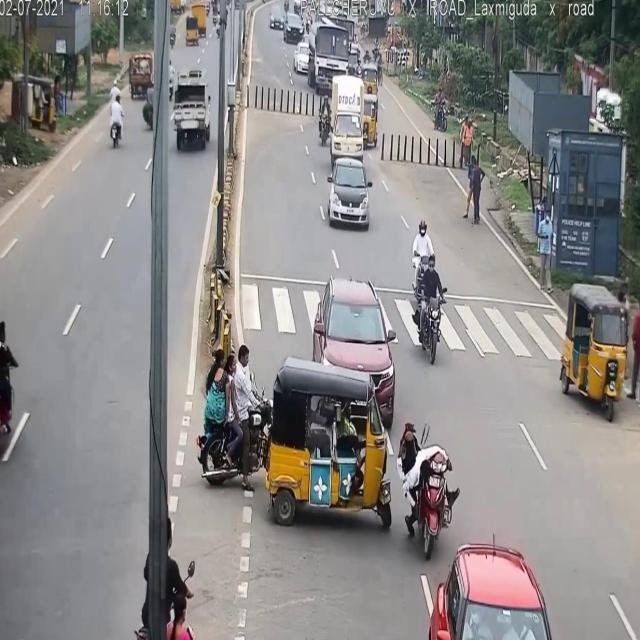accident: (258, 354, 462, 566)
non_accident: (289, 18, 383, 238), (263, 3, 313, 49), (182, 0, 210, 52)
